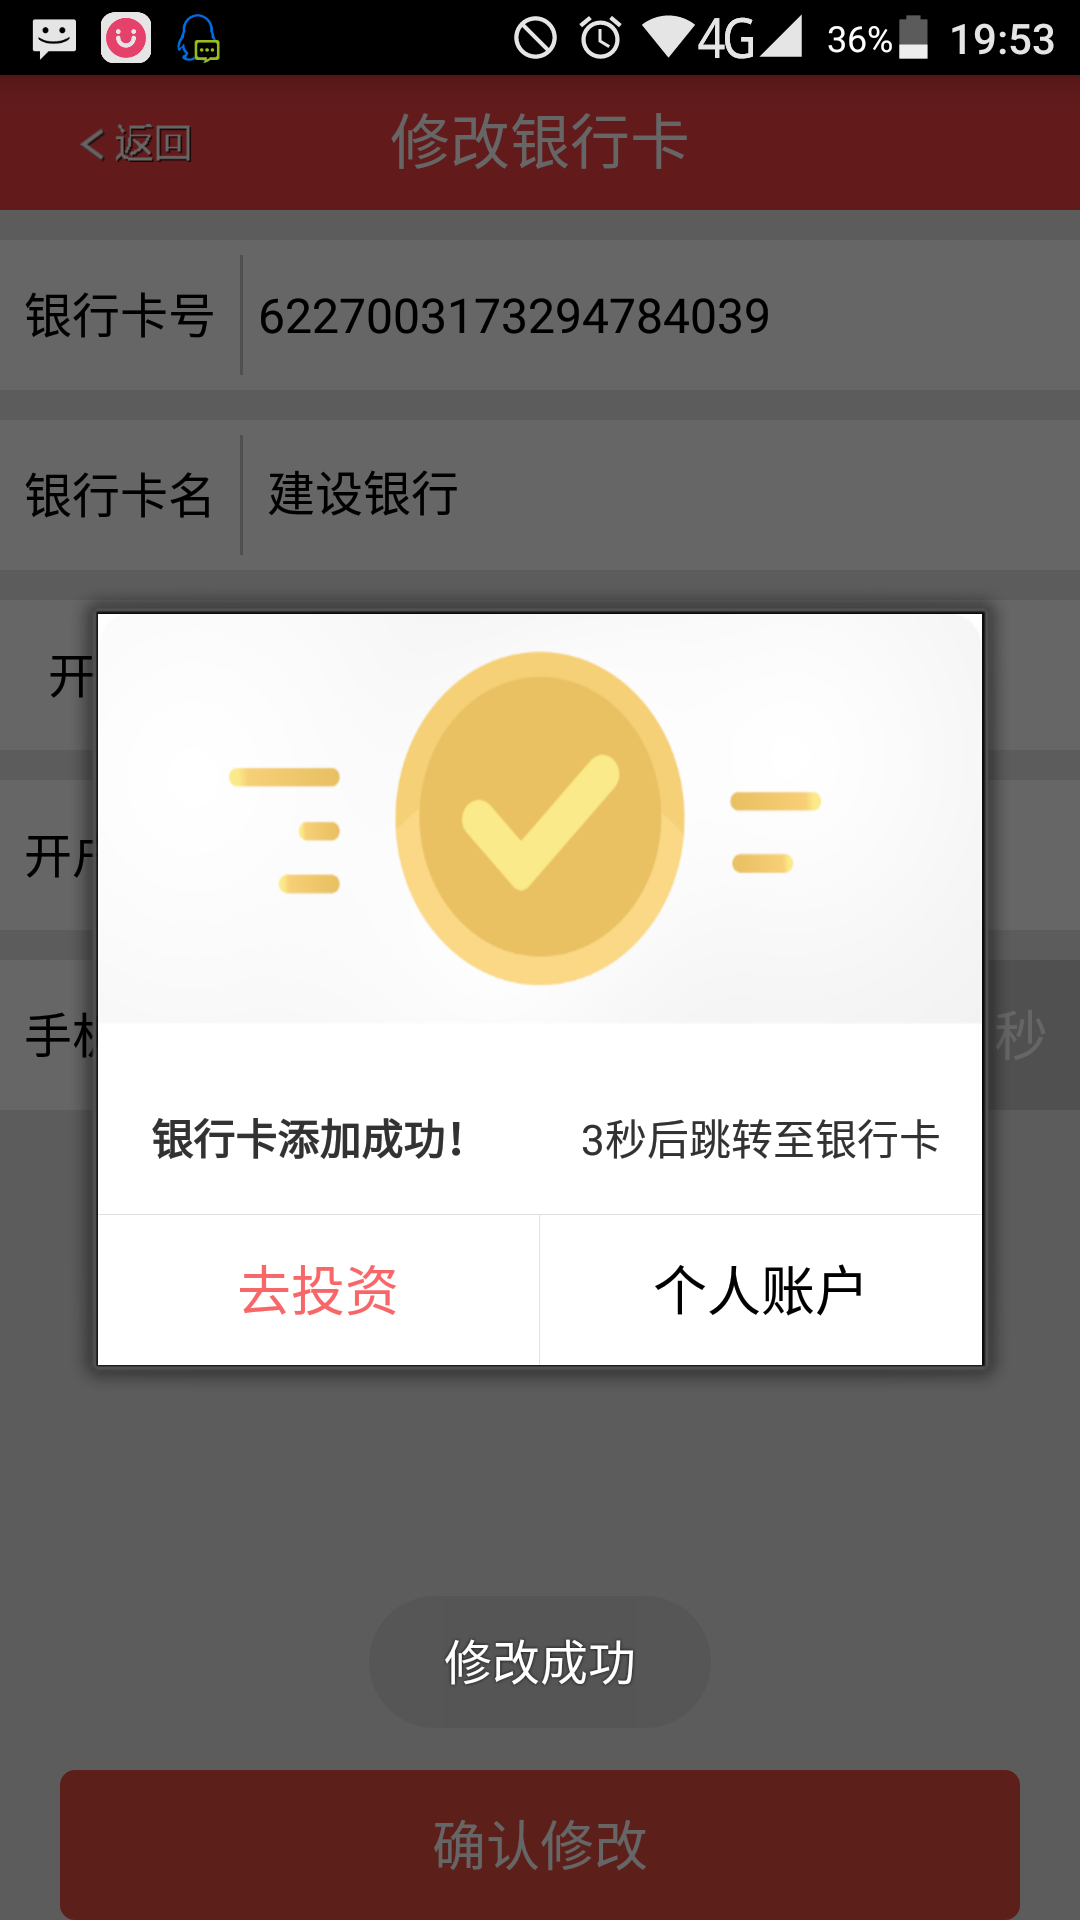alert: (92, 593, 1000, 1382), (355, 1592, 723, 1733)
button: (547, 1192, 988, 1382), (100, 1207, 553, 1378)
imgview: (210, 621, 831, 988)
textview: (135, 1088, 955, 1196)
